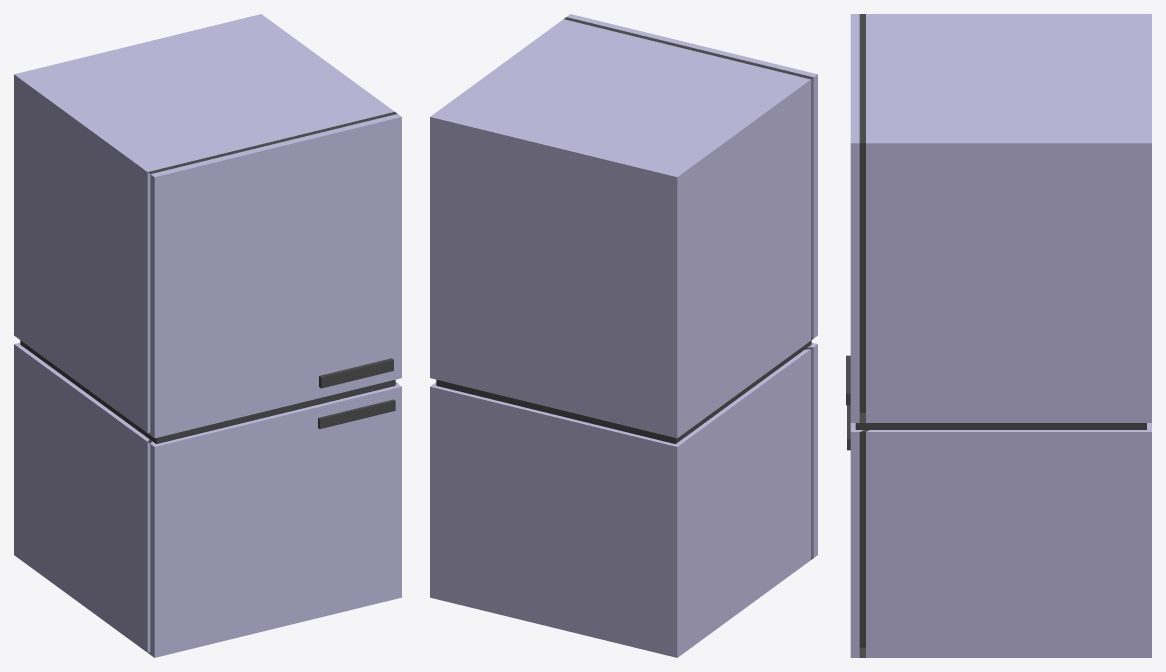
Rendered from Fridge.fbx.
The picture shows the model from 3 angles, left to right: view 1: azimuth 30°, elevation 25°; view 2: azimuth 150°, elevation 25°; view 3: azimuth 270°, elevation 25°; orthographic projection. The views are drawn at different scales.
Parts seen in each view (by area): view 1: Cube; view 2: Cube; view 3: Cube.
Part boxes in pixels (x1,y1,x2,y2): Cube: [14, 14, 401, 657]; Cube: [430, 14, 817, 657]; Cube: [846, 14, 1151, 657].
Size of the model in its own units: 1.4 by 2.6 by 1.4.
